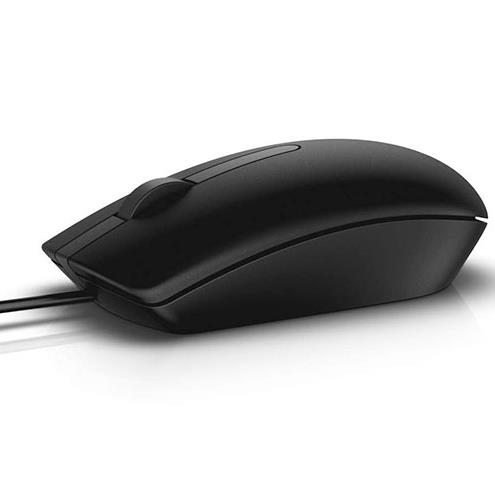dell-mouse-ms116: (1, 134, 482, 338)
